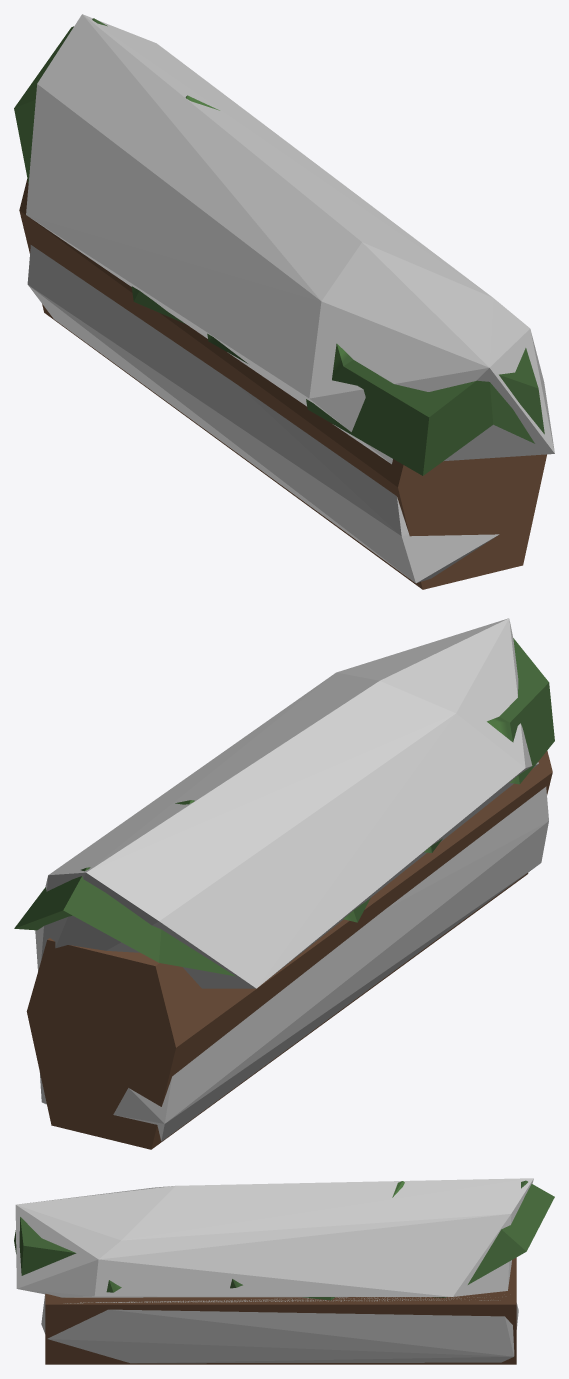
Rendered from SM_Bld_Roof_Cap_Straight_Half_01.fbx.
3 views of the same model, one above another, from view 1: azimuth 30°, elevation 25°; view 2: azimuth 150°, elevation 25°; view 3: azimuth 270°, elevation 25° (orthographic). The views are drawn at different scales.
Parts seen in each view (by area): view 1: SM_Bld_Roof_Cap_Straight_Half_01_ConvexHulls, SM_Bld_Roof_Cap_Straight_Half_01; view 2: SM_Bld_Roof_Cap_Straight_Half_01_ConvexHulls, SM_Bld_Roof_Cap_Straight_Half_01; view 3: SM_Bld_Roof_Cap_Straight_Half_01_ConvexHulls, SM_Bld_Roof_Cap_Straight_Half_01.
Boxes of the visible parts, bbox=[...] form: SM_Bld_Roof_Cap_Straight_Half_01_ConvexHulls: bbox=[26, 14, 554, 583]; SM_Bld_Roof_Cap_Straight_Half_01: bbox=[14, 18, 546, 589]; SM_Bld_Roof_Cap_Straight_Half_01_ConvexHulls: bbox=[35, 618, 548, 1141]; SM_Bld_Roof_Cap_Straight_Half_01: bbox=[14, 638, 554, 1149]; SM_Bld_Roof_Cap_Straight_Half_01_ConvexHulls: bbox=[15, 1178, 533, 1363]; SM_Bld_Roof_Cap_Straight_Half_01: bbox=[14, 1180, 554, 1364].
Bounding box in the file's own units: 43.84 × 143 × 50.27.
2 materials, 1 textured.
